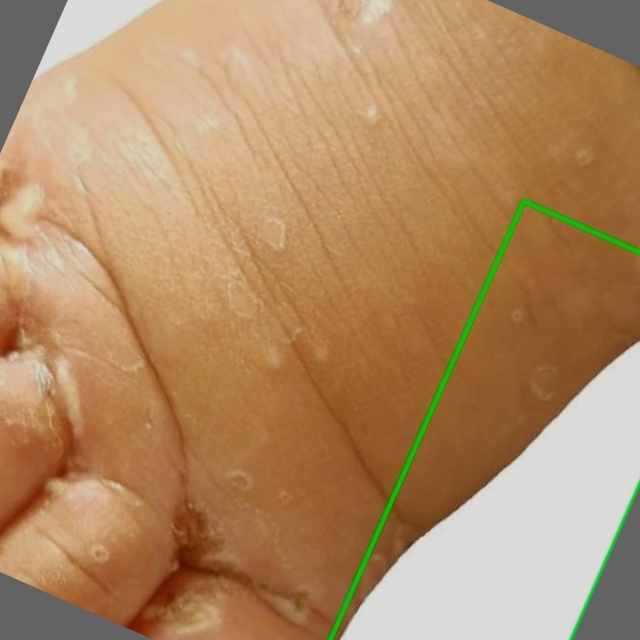Scabies: (330, 201, 639, 639)
